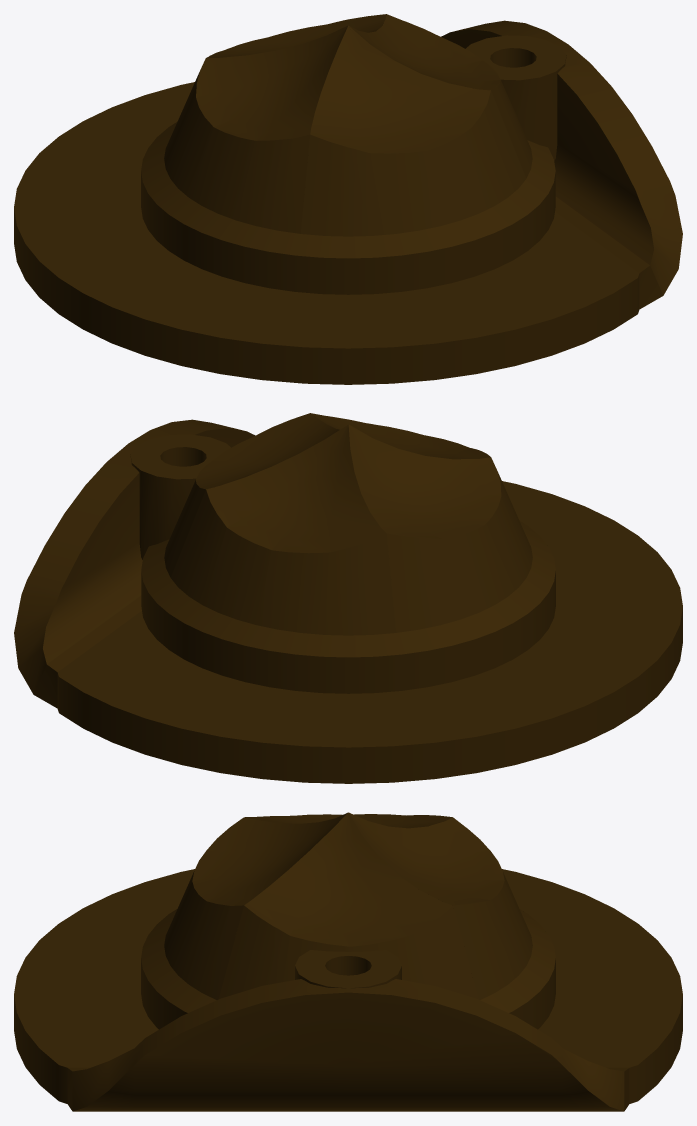
3 renders of one model, top to bottom at view 1: azimuth 30°, elevation 25°; view 2: azimuth 150°, elevation 25°; view 3: azimuth 270°, elevation 25°, orthographic.
Visible parts, largest first — view 1: 30167.dat; view 2: 30167.dat; view 3: 30167.dat.
Boxes of the visible parts, bbox=[...] form: 30167.dat: bbox=[14, 14, 682, 384]; 30167.dat: bbox=[14, 413, 682, 783]; 30167.dat: bbox=[14, 812, 682, 1111].
Bounding box in the file's own units: 1.76 × 0.72 × 2.
